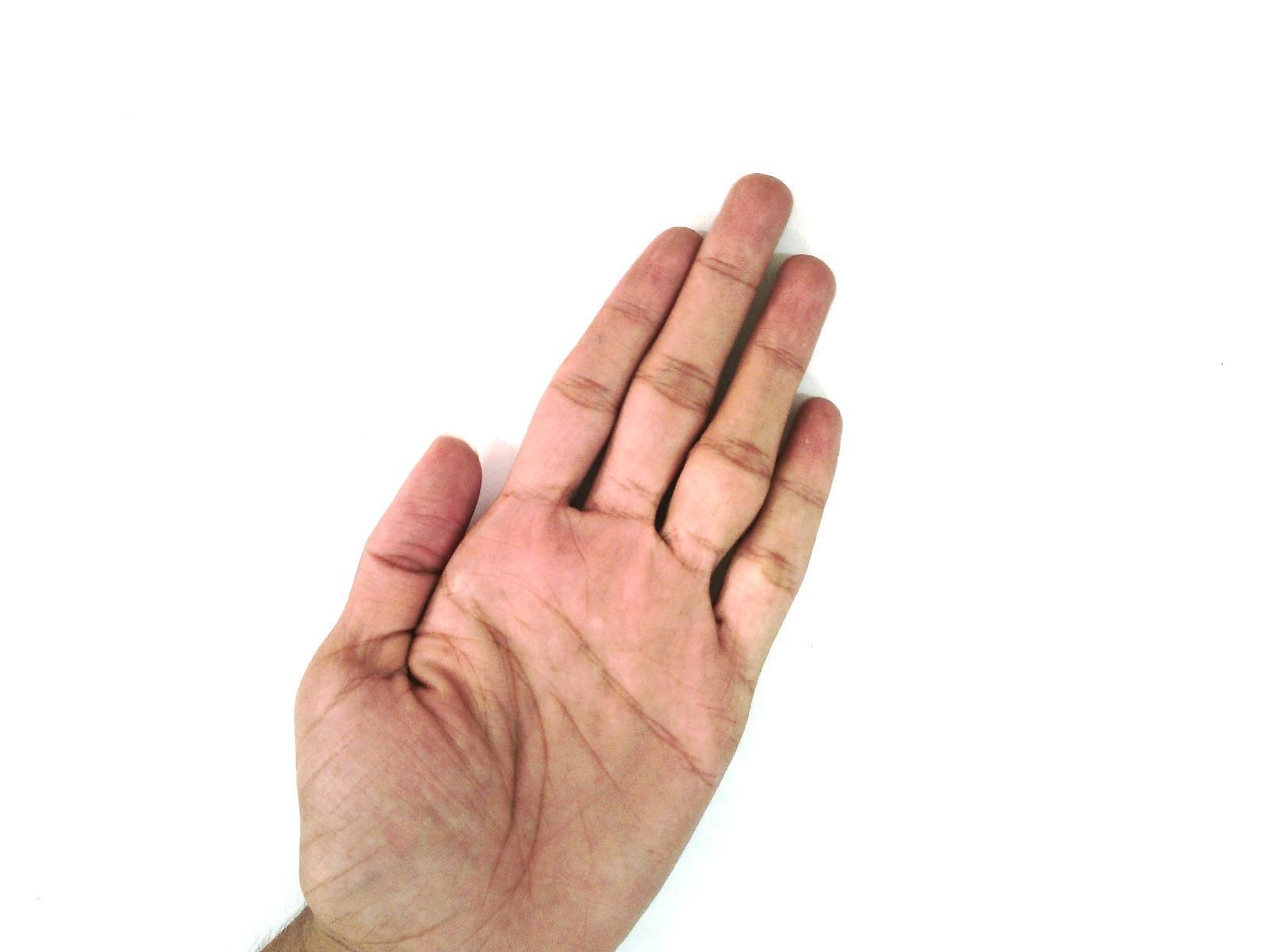open_palm: (267, 171, 847, 951)
